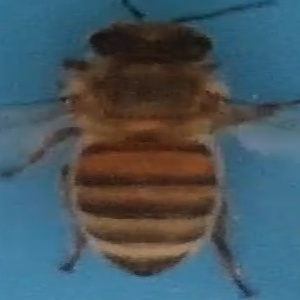bee: (8, 7, 285, 297)
